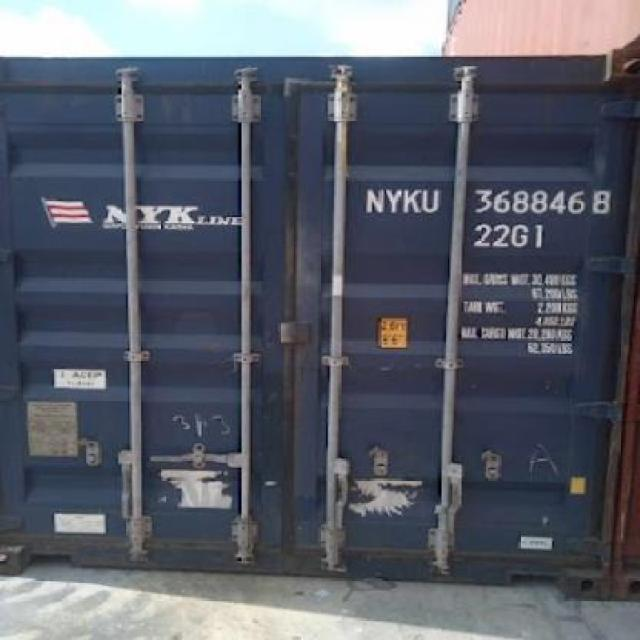ISO: (470, 221, 548, 250)
container_number: (366, 178, 620, 218)
